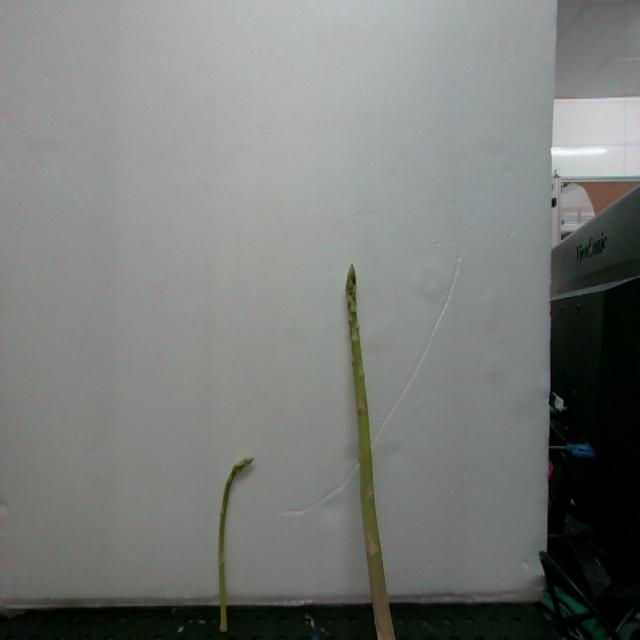aspargus: (345, 267, 399, 640), (214, 458, 254, 635)
